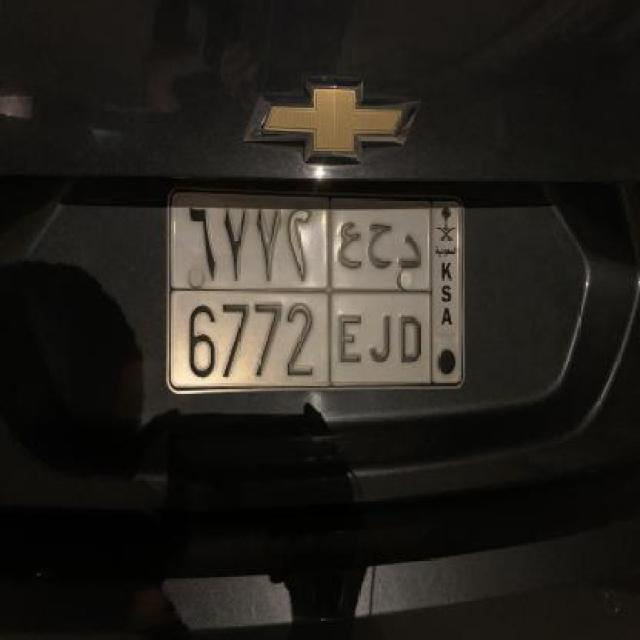license_plate: (165, 186, 468, 397)
